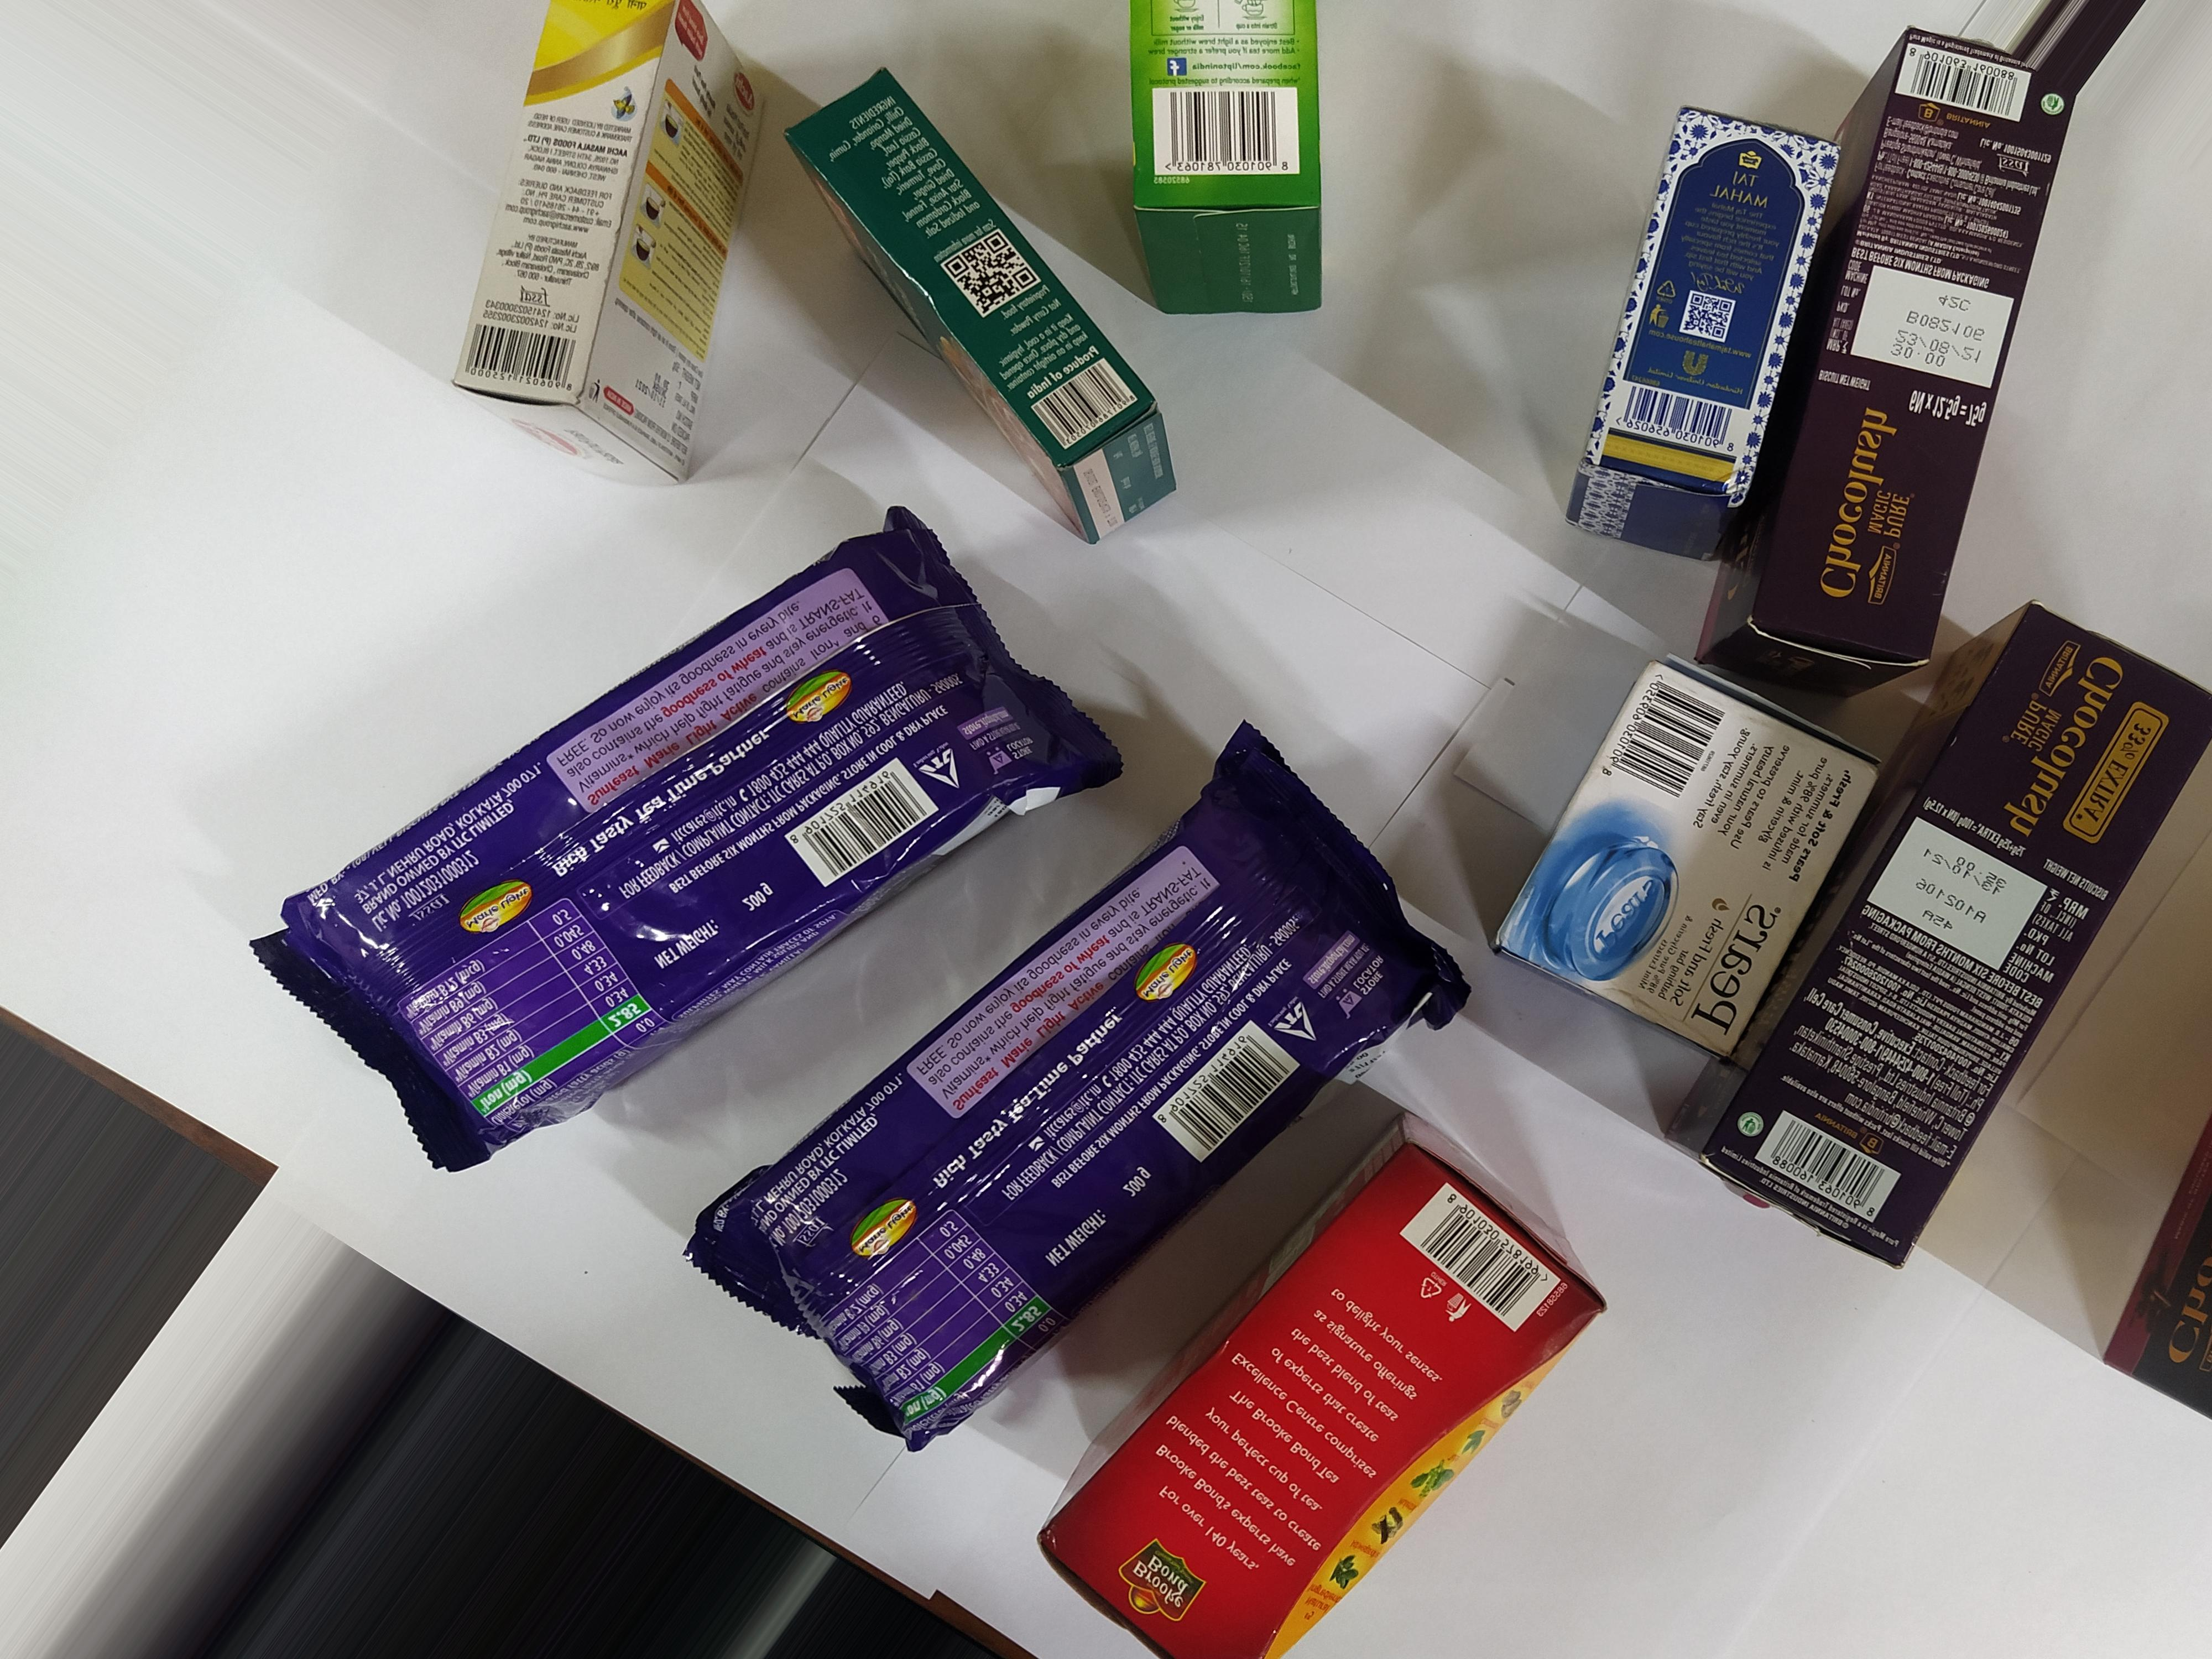Bar_code: (1378, 1173, 1576, 1337), (768, 755, 942, 903), (1587, 655, 1742, 817), (1137, 73, 1322, 195), (1132, 1026, 1305, 1155), (1878, 19, 2048, 139), (1747, 1100, 1898, 1229), (453, 296, 583, 420), (1007, 354, 1155, 462), (1613, 368, 1735, 462)
Item: (160, 523, 1068, 1058), (1719, 610, 2182, 1328), (697, 943, 1318, 1439), (1045, 1157, 1667, 1645), (789, 80, 1224, 563), (409, 0, 796, 505), (1768, 40, 2020, 711), (1491, 629, 1824, 1070), (1566, 80, 1810, 579), (1092, 0, 1355, 350)
QR_code: (934, 225, 1042, 326), (1670, 281, 1742, 357)
